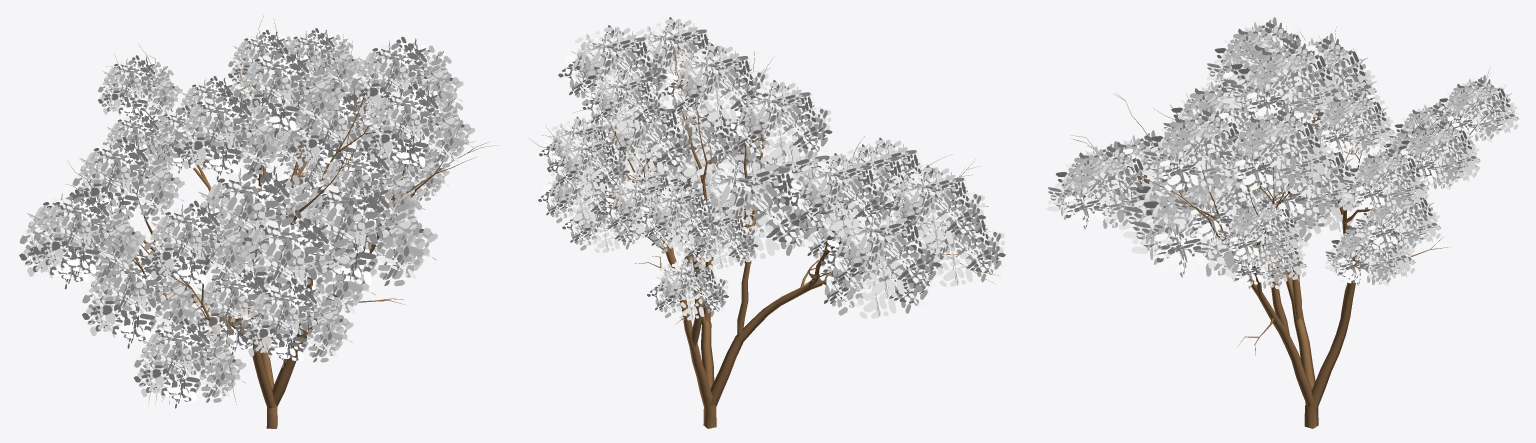
Rendered from tree.glb.
3 views of the same model, side by side, from view 1: azimuth 30°, elevation 25°; view 2: azimuth 150°, elevation 25°; view 3: azimuth 270°, elevation 25° (orthographic). The views are drawn at different scales.
Visible parts, largest first — view 1: sn_tree_oak.005; view 2: sn_tree_oak.005; view 3: sn_tree_oak.005.
Boxes of the visible parts, left/top/right/bottom form: sn_tree_oak.005: left=19, top=16, right=498, bottom=428; sn_tree_oak.005: left=529, top=17, right=1005, bottom=428; sn_tree_oak.005: left=1046, top=17, right=1518, bottom=428.
Bounding box in the file's own units: 12.06 × 10.3 × 11.56.
Materials: 2 (1 with a texture image).
